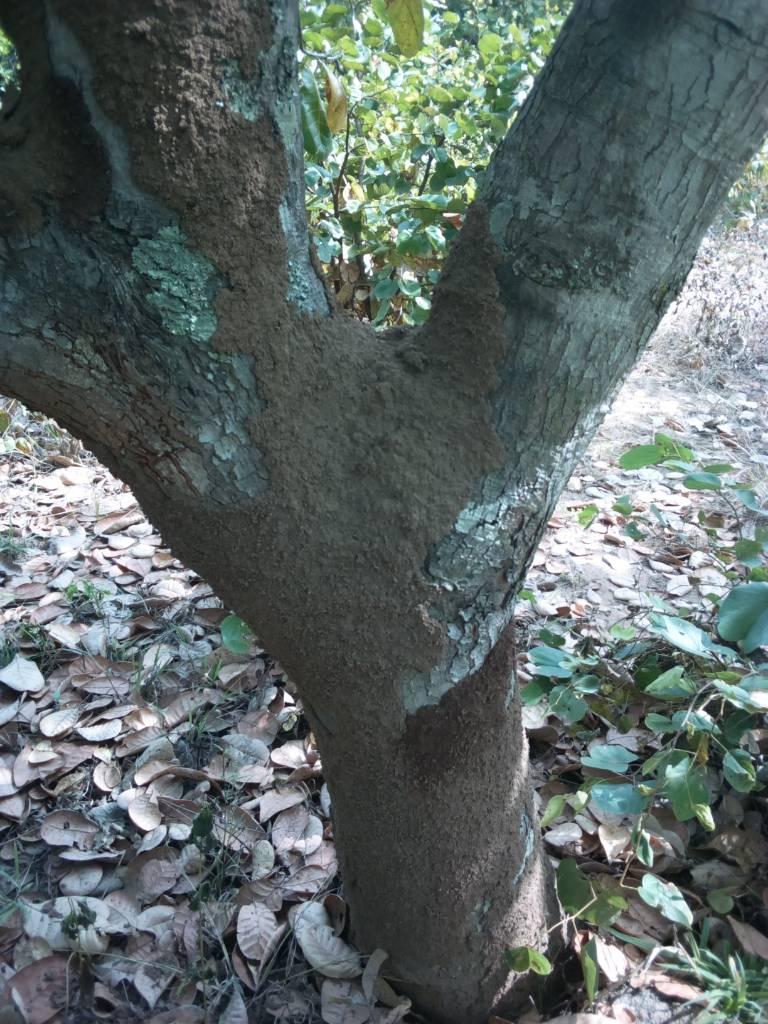Termites: (235, 282, 496, 535), (366, 758, 540, 977), (247, 550, 436, 716)
